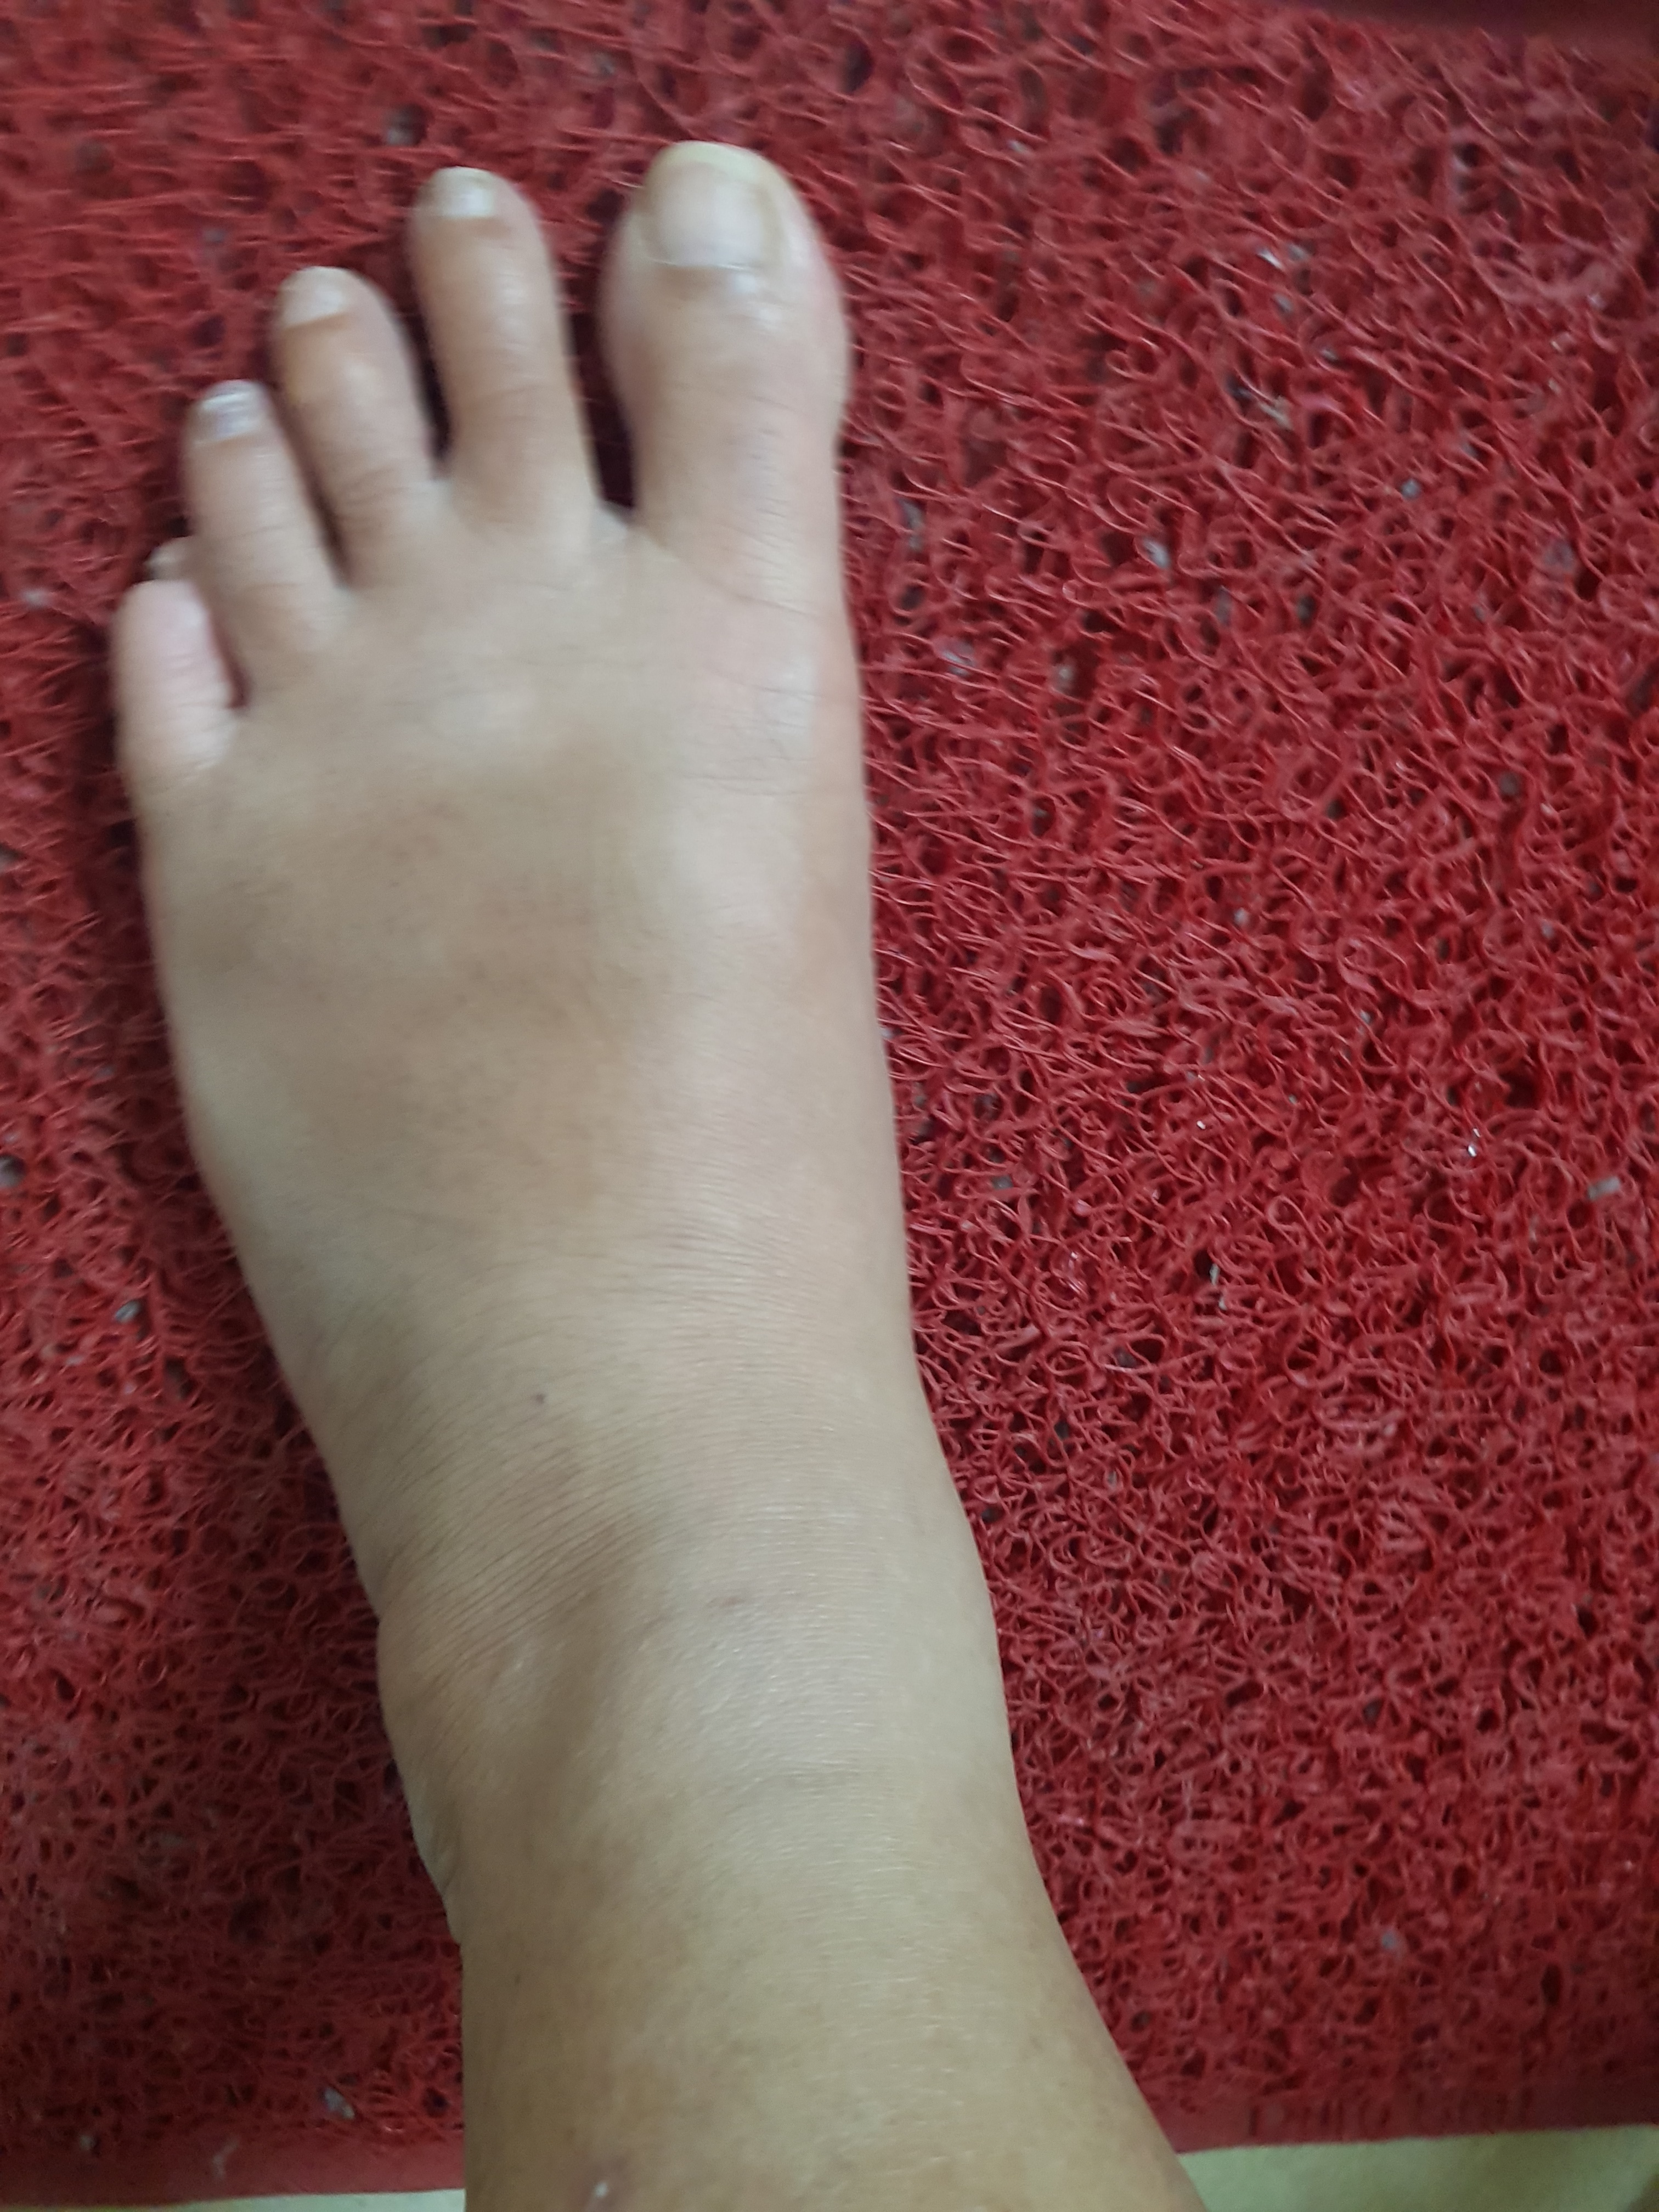feet: (14, 44, 1068, 2151)
